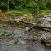Downstairs: (8, 16, 51, 34)
